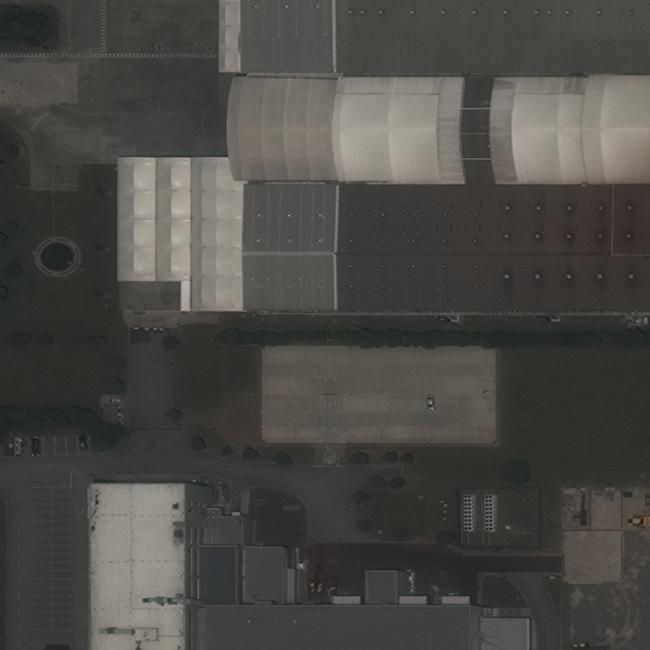parking lot: (30, 487, 52, 630), (51, 487, 72, 630), (14, 435, 90, 455)
